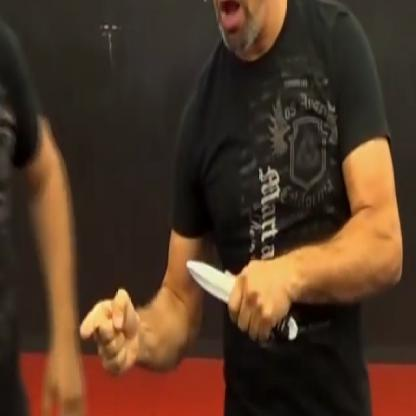knife: (179, 246, 302, 355)
